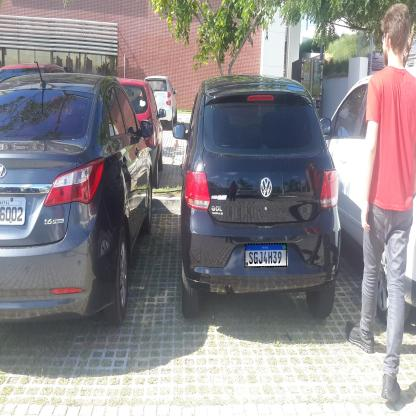PlacaM: (244, 243, 287, 268)
